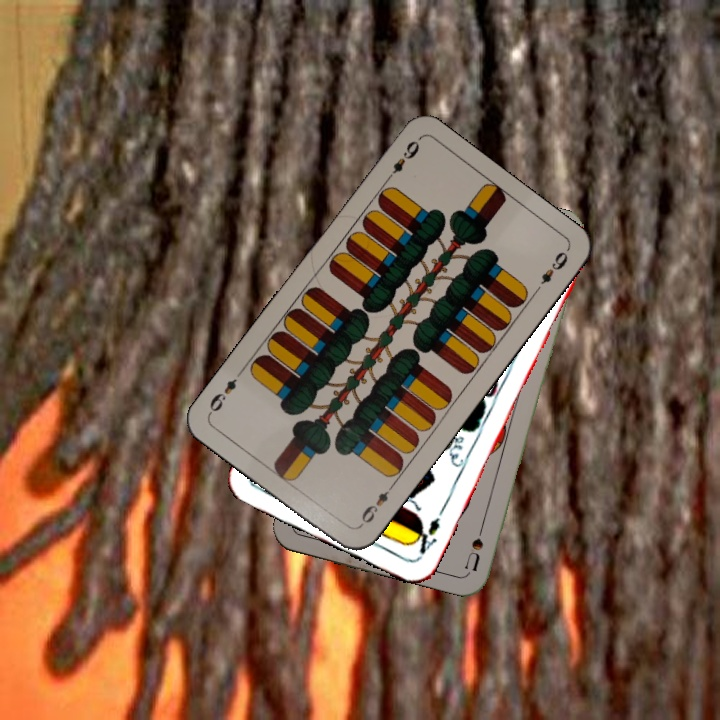E9: (355, 480, 397, 530), (380, 136, 422, 186)
EA: (408, 513, 442, 561)
SU: (461, 514, 489, 573)
